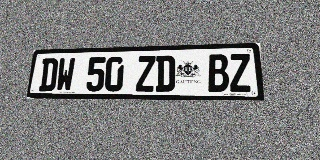0: (104, 56, 124, 92)
5: (86, 57, 106, 92)
B: (207, 54, 229, 92)
D: (155, 55, 175, 92), (38, 58, 59, 91)
W: (55, 58, 75, 91)
Z: (229, 54, 252, 92), (136, 56, 155, 92)
